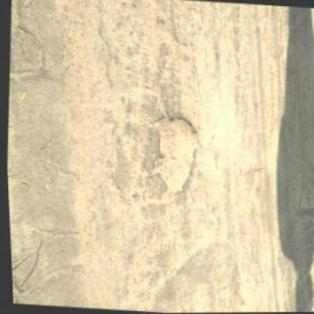Hueco: (143, 111, 204, 197)
